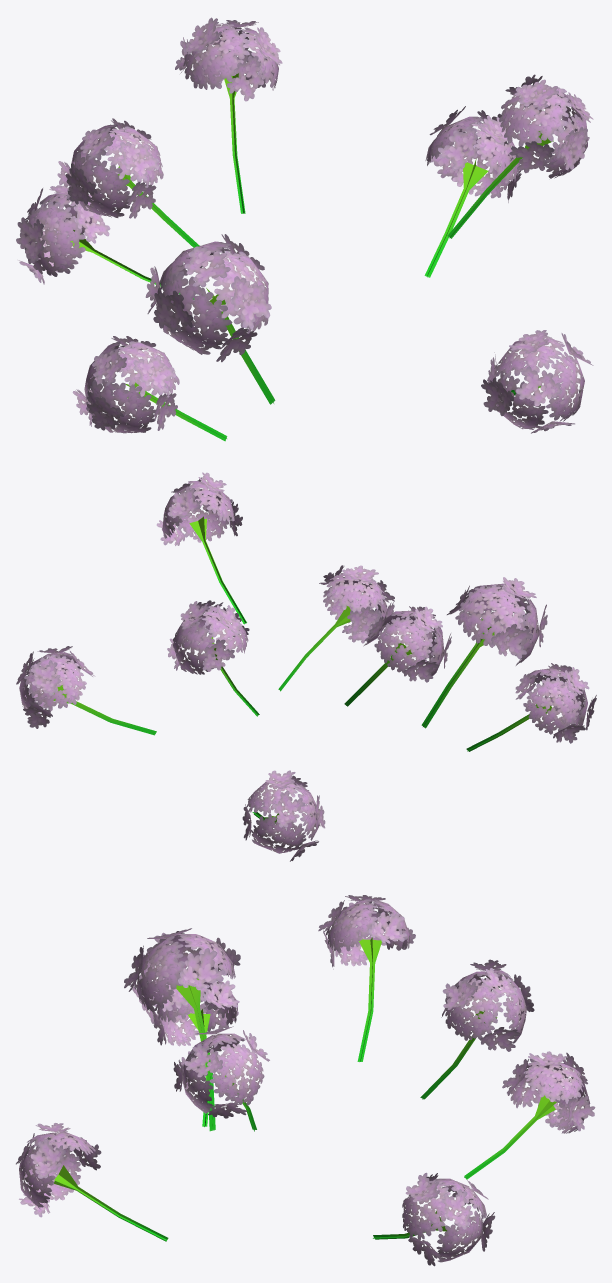
Rendered from Flower_02_a.fbx.
The picture shows the model from 3 angles, top to bottom: view 1: azimuth 30°, elevation 25°; view 2: azimuth 150°, elevation 25°; view 3: azimuth 270°, elevation 25°; orthographic projection. The views are drawn at different scales.
Visible parts, largest first — view 1: Alpha.004, Alpha.003, Alpha.006, Alpha.015, Alpha.012, Alpha.010, Alpha.013, Alpha.016; view 2: Alpha.004, Alpha.016, Alpha.003, Alpha.006, Alpha.010, Alpha.012, Alpha.013, Alpha.015; view 3: Alpha.004, Alpha.013, Alpha.010, Alpha.012, Alpha.016, Alpha.015, Alpha.006, Alpha.003.
Boxes of the visible parts, x1,y1,x2,y2 form: Alpha.004: [145, 234, 275, 404]; Alpha.003: [72, 336, 227, 441]; Alpha.006: [57, 118, 199, 247]; Alpha.015: [481, 330, 593, 433]; Alpha.012: [447, 74, 593, 238]; Alpha.010: [175, 17, 282, 213]; Alpha.013: [424, 106, 521, 277]; Alpha.016: [16, 185, 193, 299]; Alpha.004: [421, 577, 547, 728]; Alpha.016: [242, 770, 325, 861]; Alpha.003: [466, 663, 596, 751]; Alpha.006: [344, 606, 451, 706]; Alpha.010: [167, 600, 259, 716]; Alpha.012: [156, 472, 246, 624]; Alpha.013: [16, 646, 156, 735]; Alpha.015: [278, 565, 394, 691]; Alpha.004: [124, 928, 240, 1131]; Alpha.013: [373, 1172, 495, 1266]; Alpha.010: [420, 959, 534, 1099]; Alpha.012: [173, 1026, 269, 1131]; Alpha.016: [464, 1051, 595, 1179]; Alpha.015: [16, 1123, 168, 1241]; Alpha.006: [318, 895, 415, 1061]; Alpha.003: [152, 971, 239, 1126].
Bounding box in the file's own units: 303 × 139 × 300.
